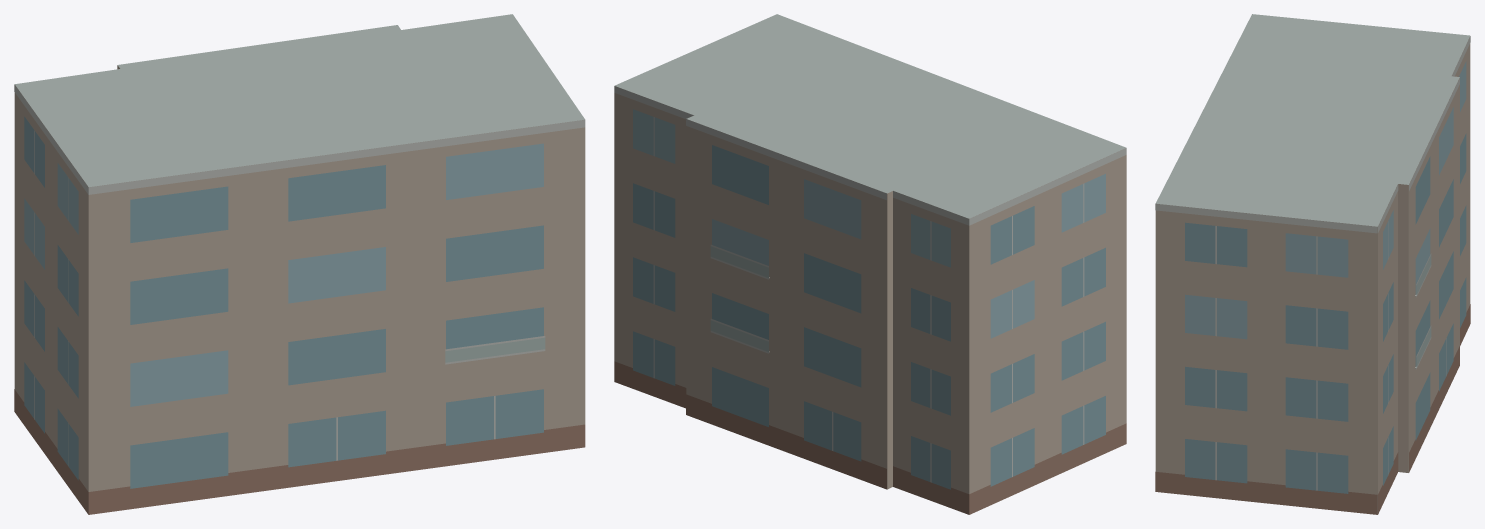
The model's file is survey-upis-32643028.glb.
3 renders of one model, left to right at view 1: azimuth 30°, elevation 25°; view 2: azimuth 150°, elevation 25°; view 3: azimuth 270°, elevation 25°, orthographic. The views are drawn at different scales.
Parts seen in each view (by area): view 1: survey-upis-32643028.tmp; view 2: survey-upis-32643028.tmp; view 3: survey-upis-32643028.tmp.
Part boxes in pixels (x1,y1,x2,y2): survey-upis-32643028.tmp: [14, 14, 585, 514]; survey-upis-32643028.tmp: [614, 14, 1126, 514]; survey-upis-32643028.tmp: [1155, 14, 1470, 514].
Bounding box in the file's own units: 16.47 × 10.4 × 10.31.
